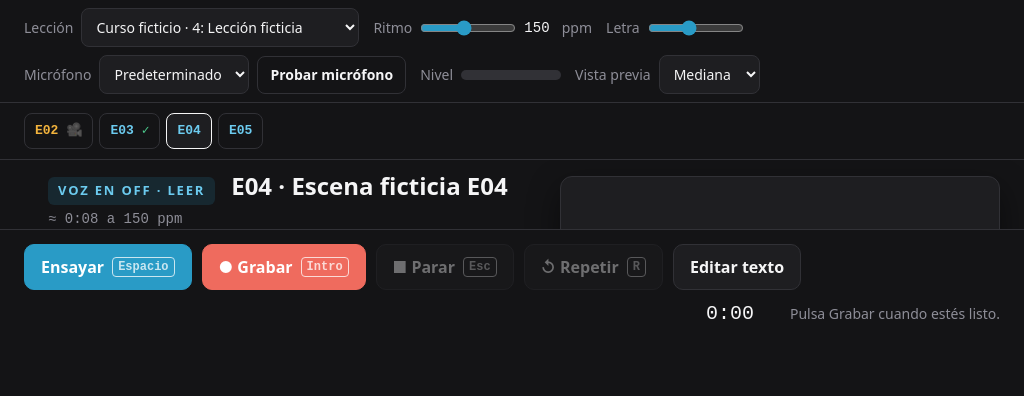
Teleprompter: selección y prueba del micrófono › explica los permisos de Chrome y macOS cuando se deniega el micrófono
Click the button "Probar micrófono".
click(332, 74)  # box [257,56,406,94]
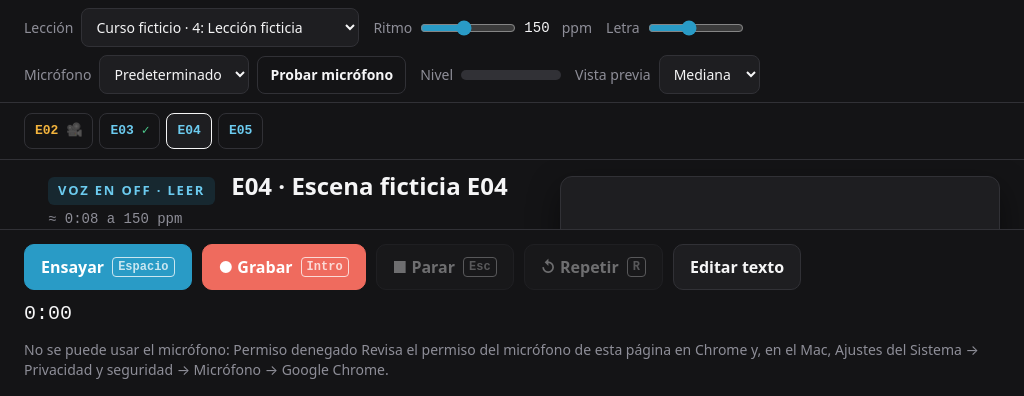
expect the message shows "No se puede usar el micrófono: Permiso denegado Revisa el permiso del micrófono de esta página en Chrome y, en el Mac, Ajustes del Sistema → Privacidad y seguri": met, box [24,340,979,378]
